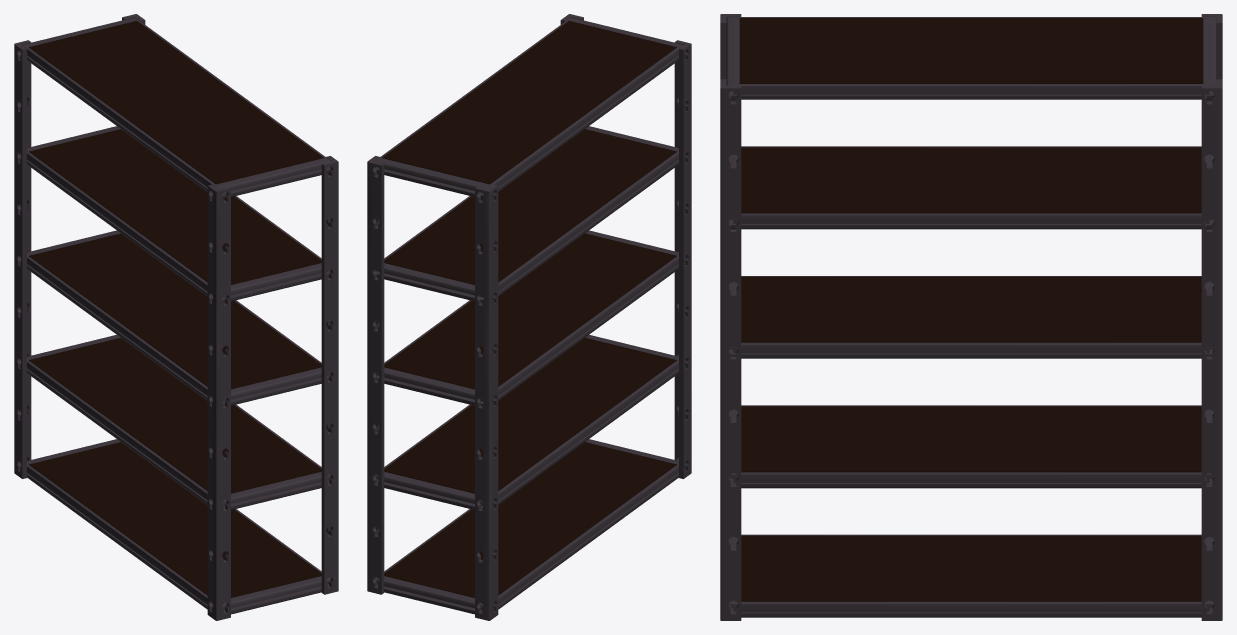
The model's file is S_MetallicShelves.fbx.
3 views of the same model, side by side, from view 1: azimuth 30°, elevation 25°; view 2: azimuth 150°, elevation 25°; view 3: azimuth 270°, elevation 25° (orthographic). The views are drawn at different scales.
Visible parts, largest first — view 1: Cube, Cube.001; view 2: Cube, Cube.001; view 3: Cube, Cube.001.
Boxes of the visible parts, x1,y1,x2,y2 form: Cube: [22, 17, 330, 614]; Cube.001: [14, 14, 338, 620]; Cube: [375, 17, 683, 614]; Cube.001: [367, 14, 691, 620]; Cube: [726, 17, 1216, 617]; Cube.001: [720, 14, 1222, 620].
Size of the model in its own units: 21.23 by 70.99 by 60.64.
